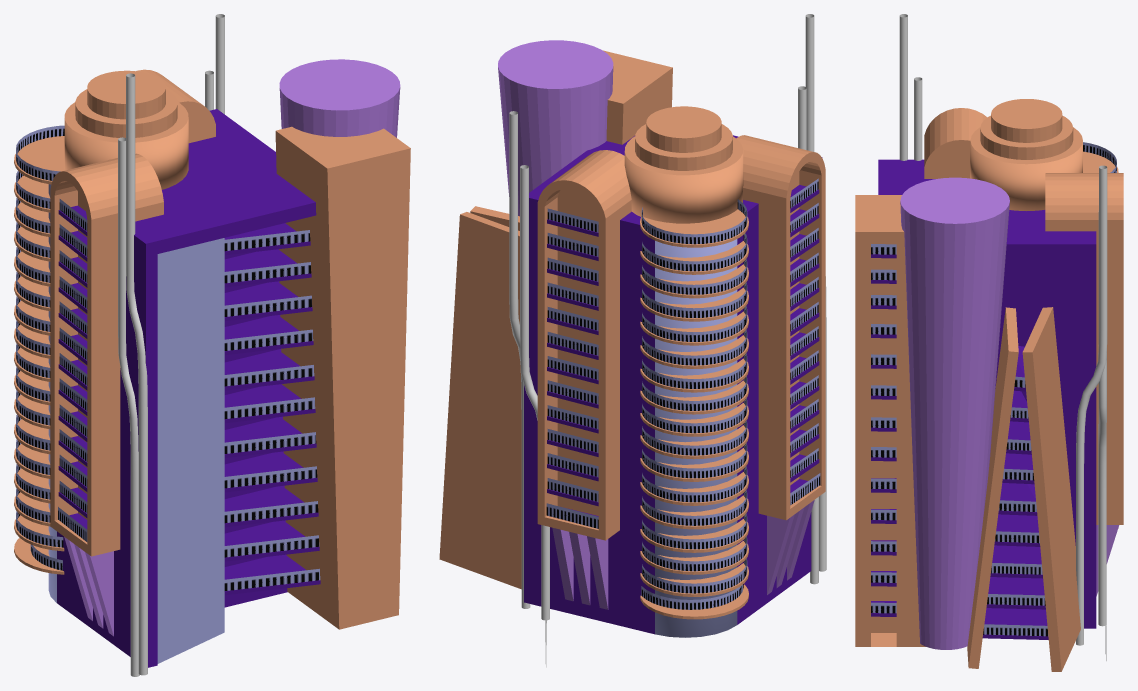
Rendered from edificio1.fbx.
The picture shows the model from 3 angles, left to right: view 1: azimuth 30°, elevation 25°; view 2: azimuth 150°, elevation 25°; view 3: azimuth 270°, elevation 25°; orthographic projection. The views are drawn at different scales.
Visible parts, largest first — view 1: Cube.001, Cube.003, Cylinder.033, Cylinder.039, Cylinder, Plane.050, Cylinder.038, Cylinder.037, Plane.021, Plane.019, Plane.017, Plane.015 (+27 smaller); view 2: Cube.001, Cube.003, Cylinder.034, Cylinder.033, Cylinder, Cylinder.039, Plane.051, Plane.050, Cylinder.036, Cylinder.035, Cylinder.038, Cylinder.040 (+40 smaller); view 3: Cube.003, Cylinder, Cube.001, Plane.024, Cylinder.034, Cylinder.039, Cylinder.035, Cylinder.033, Cylinder.036, Cylinder.038, Cylinder.037, Plane.054 (+1 smaller).
Part boxes in pixels (x1,y1,x2,y2): Cube.001: (48,109,316,667); Cube.003: (275,126,410,629); Cylinder.033: (50,153,163,556); Cylinder.039: (64,70,188,189); Cylinder: (279,59,400,137); Plane.050: (58,199,87,541); Cylinder.038: (126,73,147,675); Cylinder.037: (118,137,139,676); Plane.021: (224,554,320,595); Plane.019: (224,520,319,561); Plane.017: (224,485,318,527); Plane.015: (224,451,317,492); Cube.001: (524,135,822,637); Cube.003: (439,50,672,589); Cylinder.034: (537,150,631,540); Cylinder.033: (736,135,825,520); Cylinder: (498,40,613,216); Cylinder.039: (624,106,743,223); Plane.051: (546,208,598,528); Plane.050: (790,178,820,505); Cylinder.036: (520,165,549,667); Cylinder.035: (509,111,530,608); Cylinder.038: (805,14,826,571); Cylinder.040: (640,209,748,247); Cube.003: (855,195,1080,671); Cylinder: (900,177,1009,649); Cube.001: (878,159,1096,628); Plane.024: (982,346,1048,639); Cylinder.034: (1045,173,1123,524); Cylinder.039: (970,99,1082,210); Cylinder.035: (1076,165,1107,645); Cylinder.033: (924,108,987,178); Cylinder.036: (1098,211,1106,660); Cylinder.038: (899,14,907,160); Cylinder.037: (914,77,922,160); Plane.054: (1096,525,1119,596).
Bounding box in the file's own units: 1433 × 2711 × 1120.
9 materials, 2 textured.
